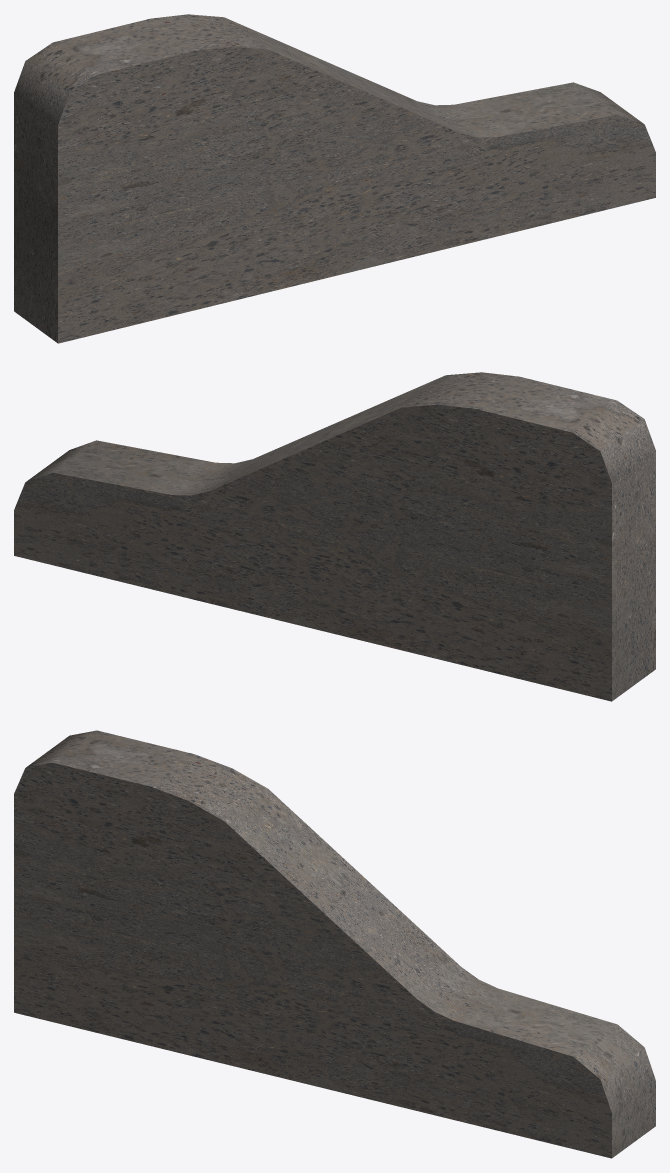
File: Zasłona_2.fbx
3 renders of one model, top to bottom at view 1: azimuth 30°, elevation 25°; view 2: azimuth 150°, elevation 25°; view 3: azimuth 330°, elevation 25°, orthographic.
Parts seen in each view (by area): view 1: Kloc_2; view 2: Kloc_2; view 3: Kloc_2.
Part boxes in pixels (x1,y1,x2,y2): Kloc_2: (14, 14, 655, 343); Kloc_2: (14, 372, 655, 701); Kloc_2: (14, 730, 655, 1158).
Bounding box in the file's own units: 71.24 × 29.54 × 9.11.
